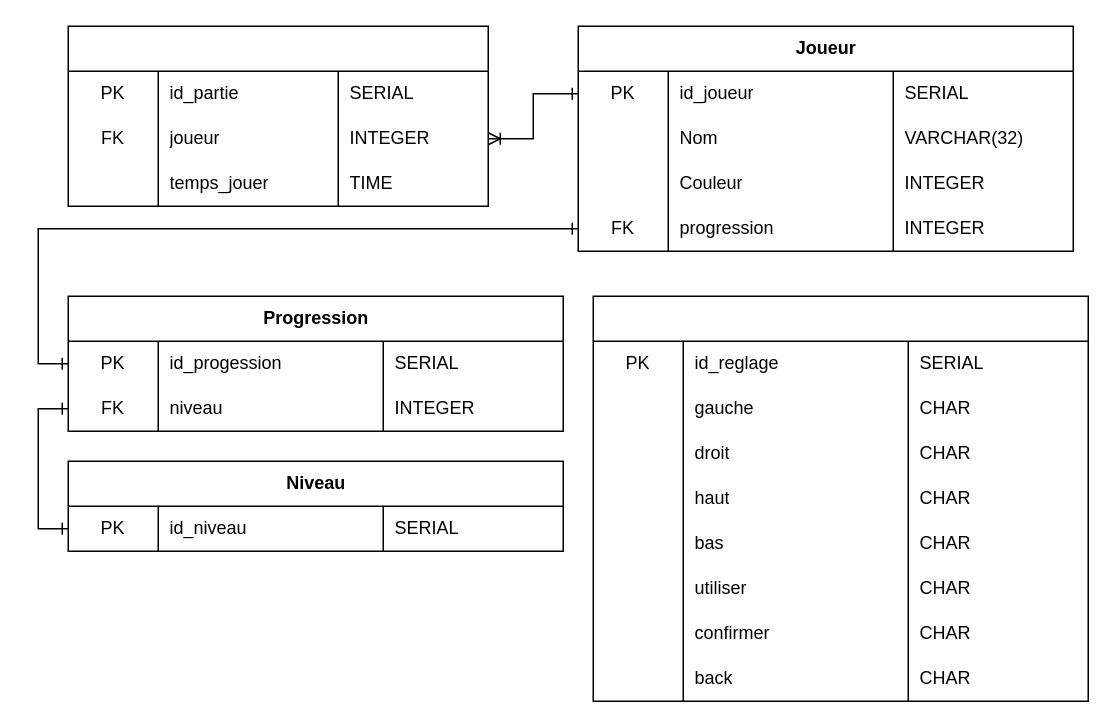
This 1115x728 diagram has some shape labels left out. Each missing label, with the box of its shape:
Partie enregistrer: (67, 25, 488, 206)
Réglage: (592, 295, 1088, 701)
